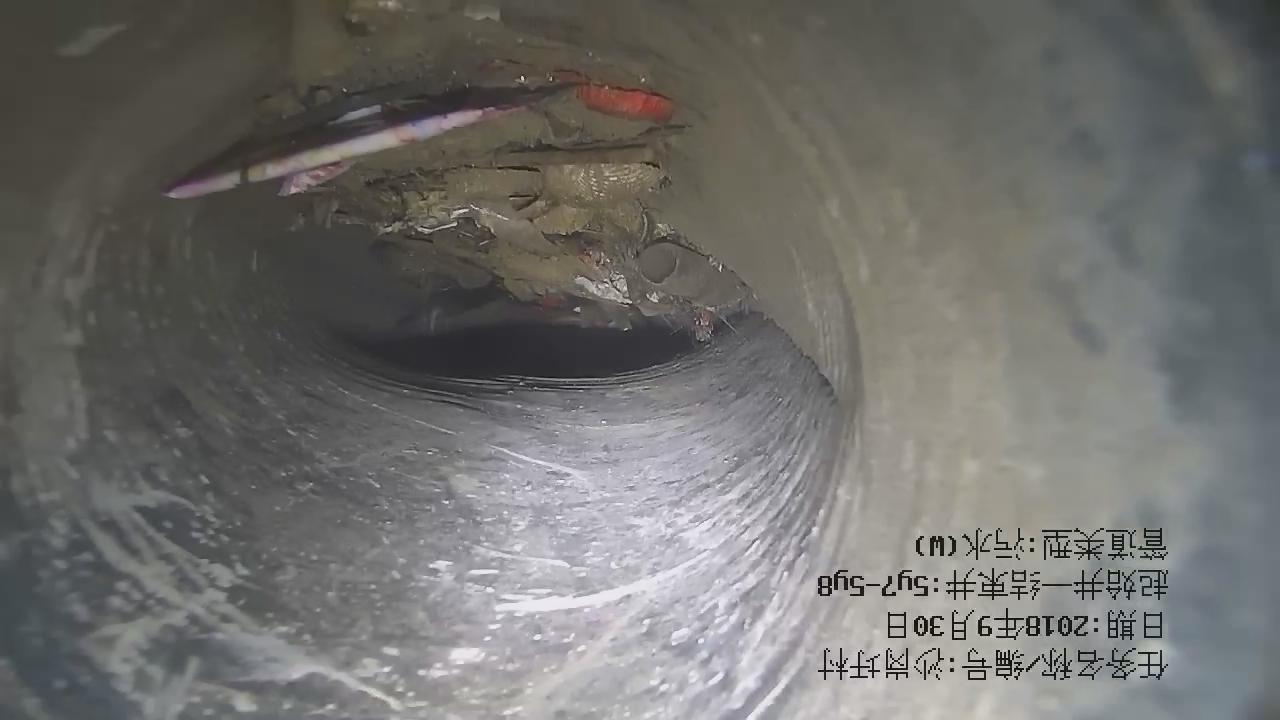BX: (234, 348, 748, 439)
CJ: (166, 1, 748, 339)
